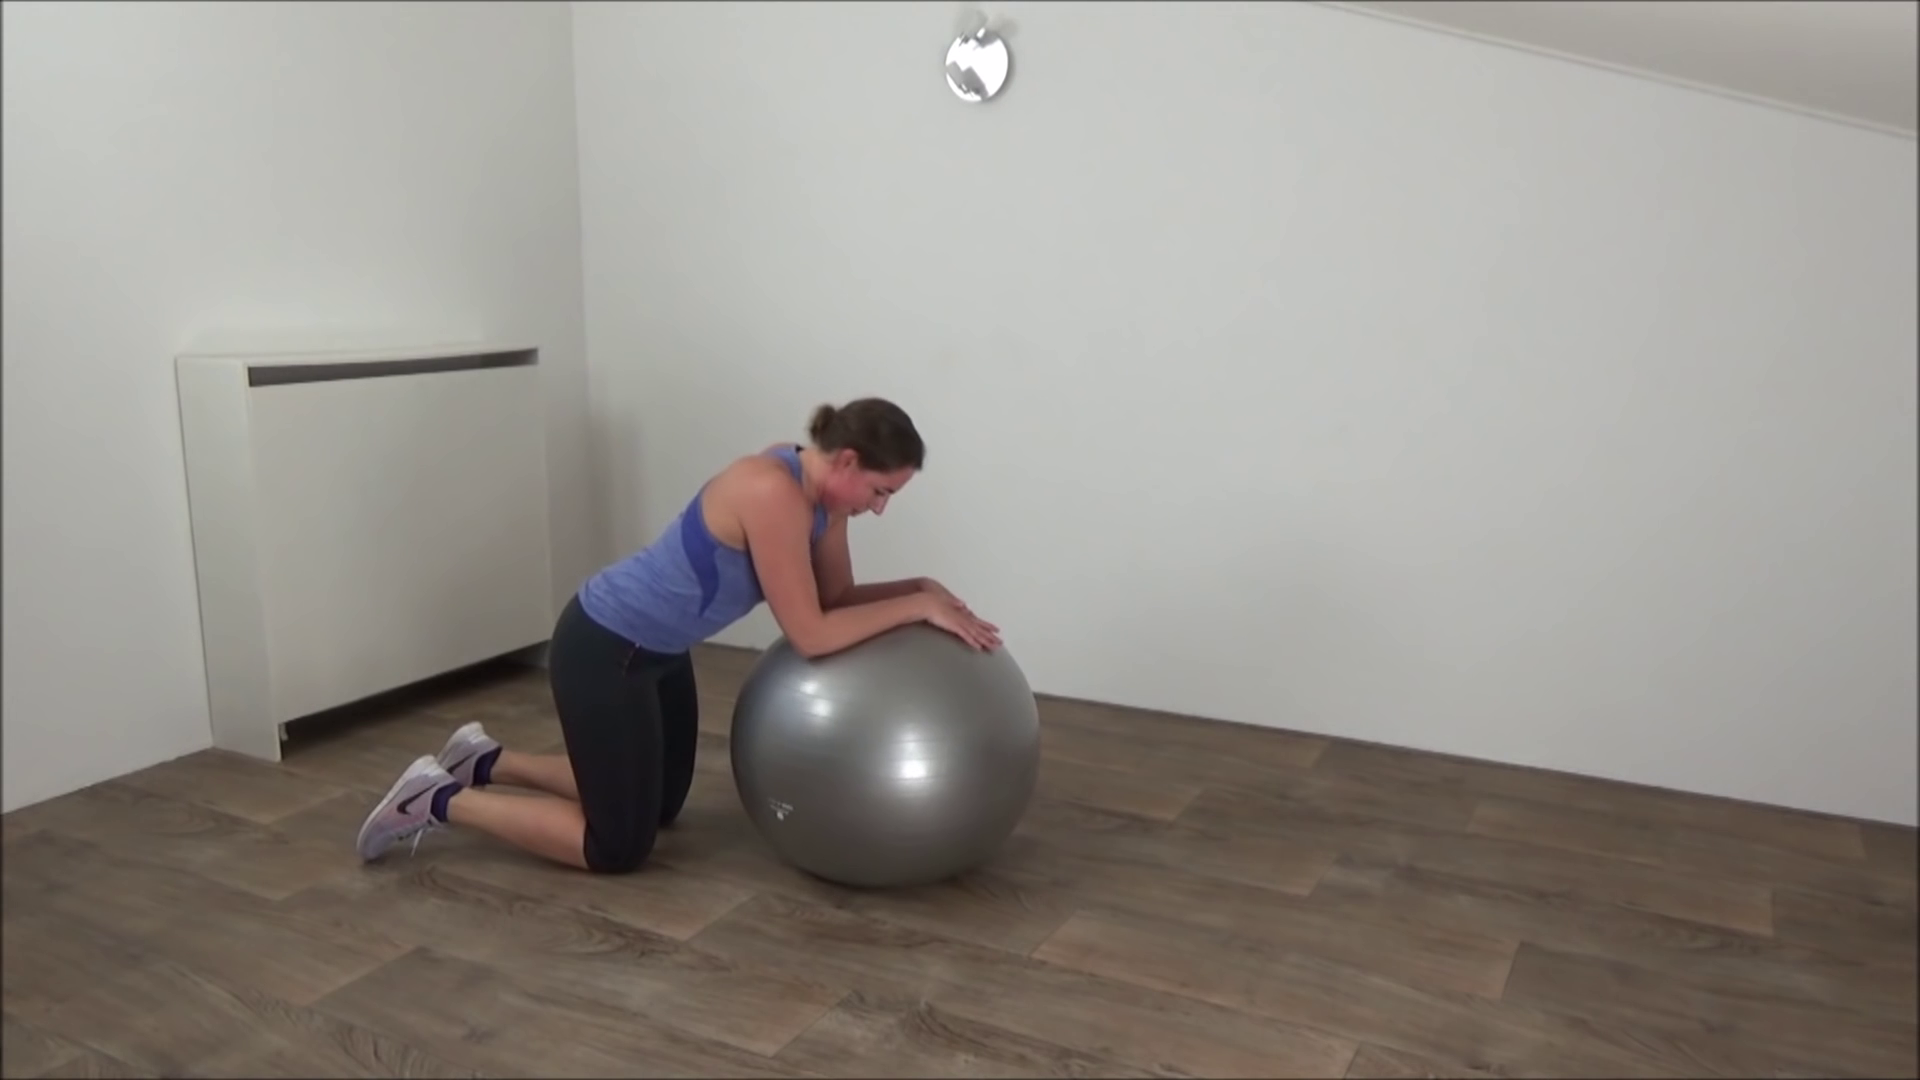yogaball: (724, 618, 1060, 897)
